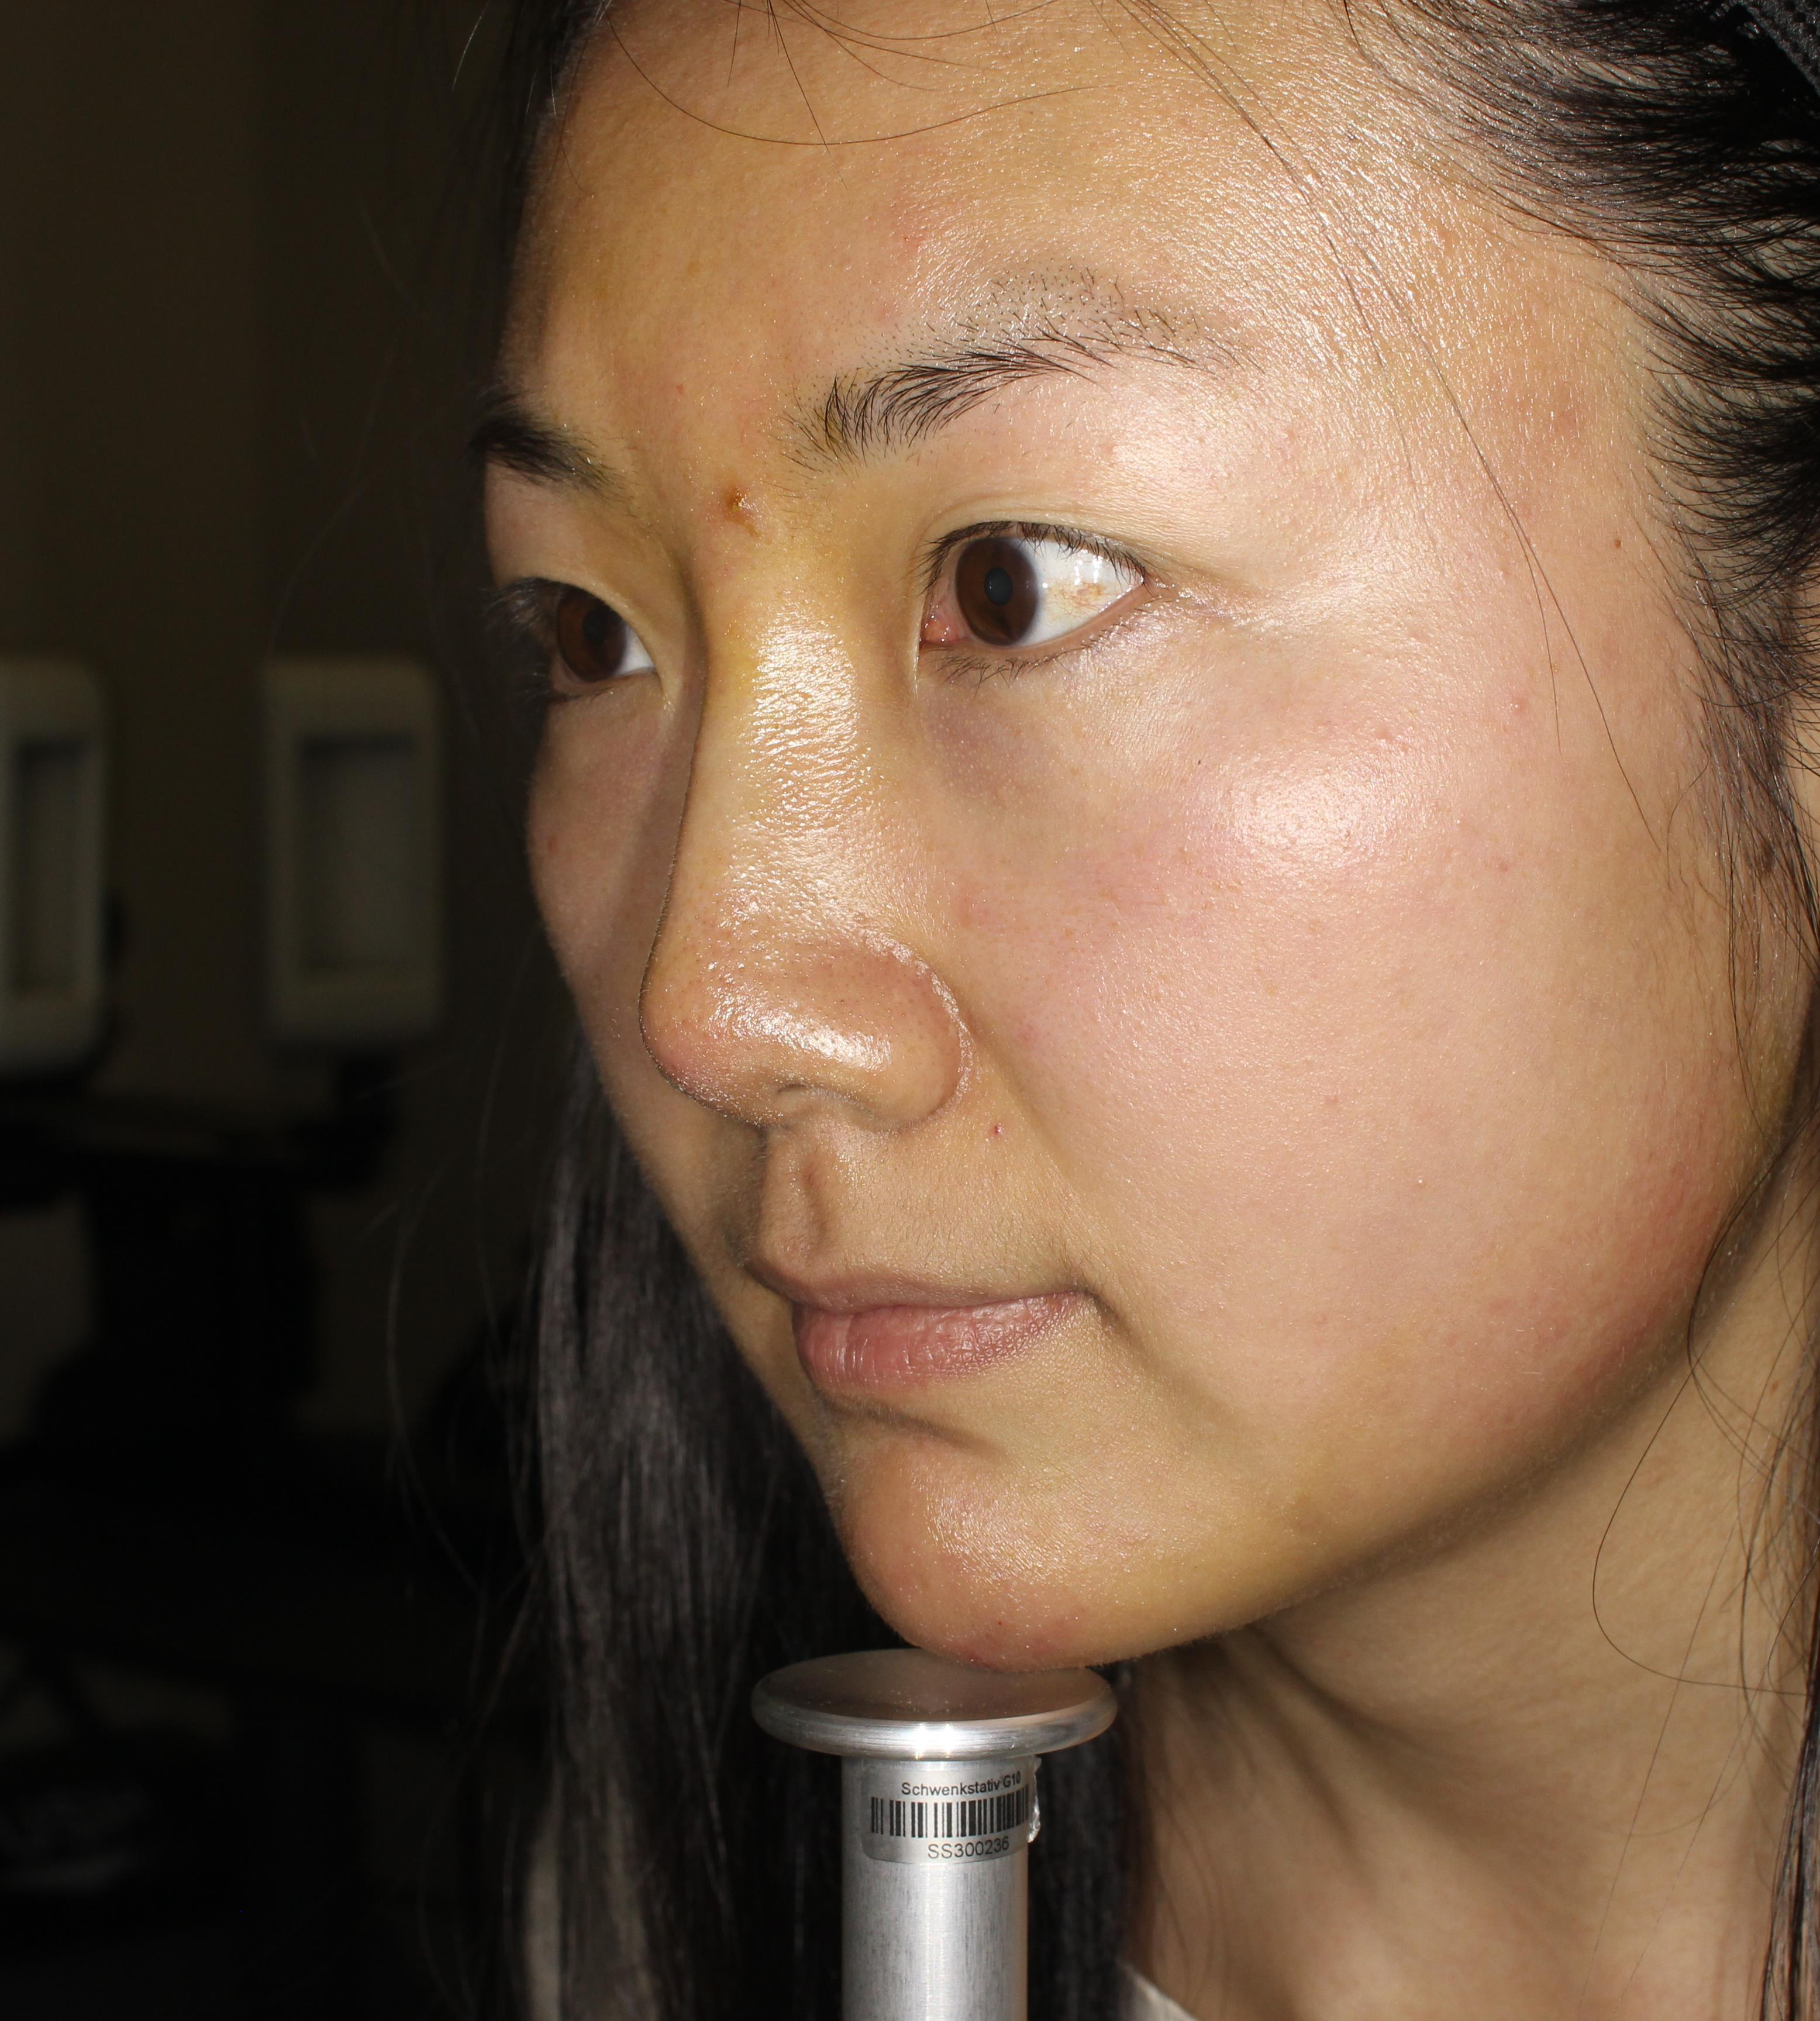fore: (699, 451, 776, 536)
